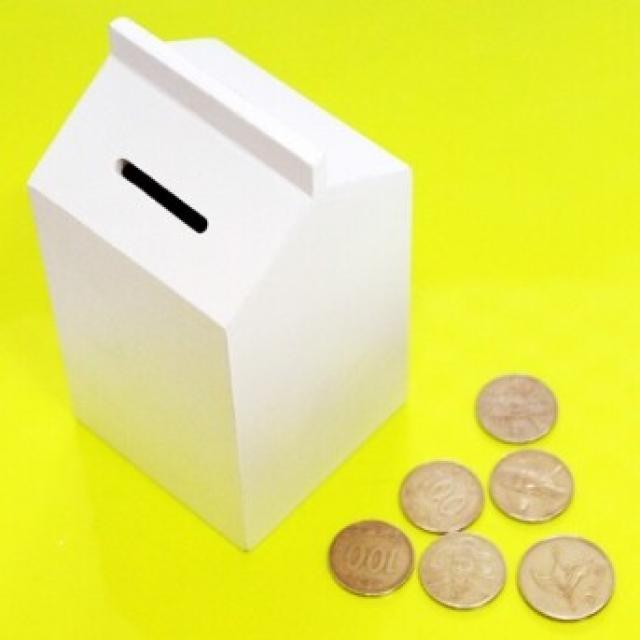Carton: (8, 26, 414, 546)
